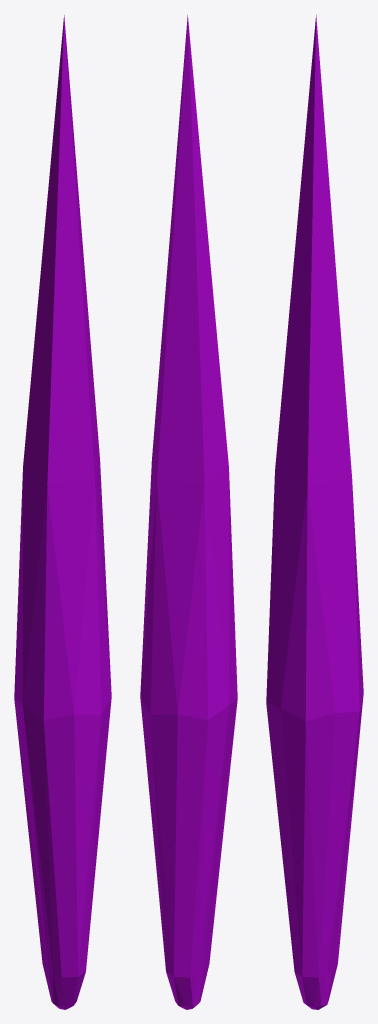
File: SharpMesh2.fbx
The picture shows the model from 3 angles, left to right: view 1: azimuth 30°, elevation 25°; view 2: azimuth 150°, elevation 25°; view 3: azimuth 330°, elevation 25°; orthographic projection.
Parts seen in each view (by area): view 1: SharpMesh2; view 2: SharpMesh2; view 3: SharpMesh2.
Boxes of the visible parts, x1,y1,x2,y2 form: SharpMesh2: (14,15,111,1009); SharpMesh2: (140,15,237,1009); SharpMesh2: (266,15,363,1009).
Bounding box in the file's own units: 73.57 × 824 × 71.73.
